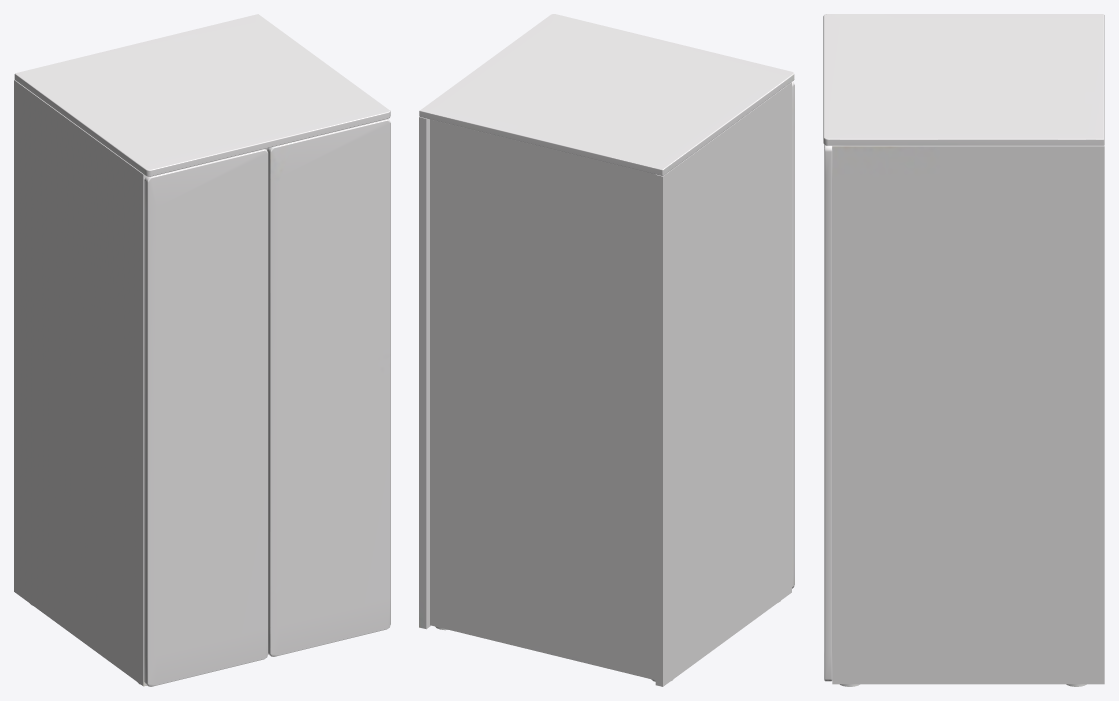
Rendered from smastad_platsa_szafa_49483313.glb.
3 renders of one model, left to right at view 1: azimuth 30°, elevation 25°; view 2: azimuth 150°, elevation 25°; view 3: azimuth 270°, elevation 25°, orthographic. The views are drawn at different scales.
Parts seen in each view (by area): view 1: smastad_platsa_szafa_49483313; view 2: smastad_platsa_szafa_49483313; view 3: smastad_platsa_szafa_49483313.
Part boxes in pixels (<box>): smastad_platsa_szafa_49483313: <box>14,14,390,686</box>; smastad_platsa_szafa_49483313: <box>419,14,794,686</box>; smastad_platsa_szafa_49483313: <box>823,14,1104,686</box>.
Size of the model in its own units: 0.6 by 1.23 by 0.568.
1 material, 1 textured.
